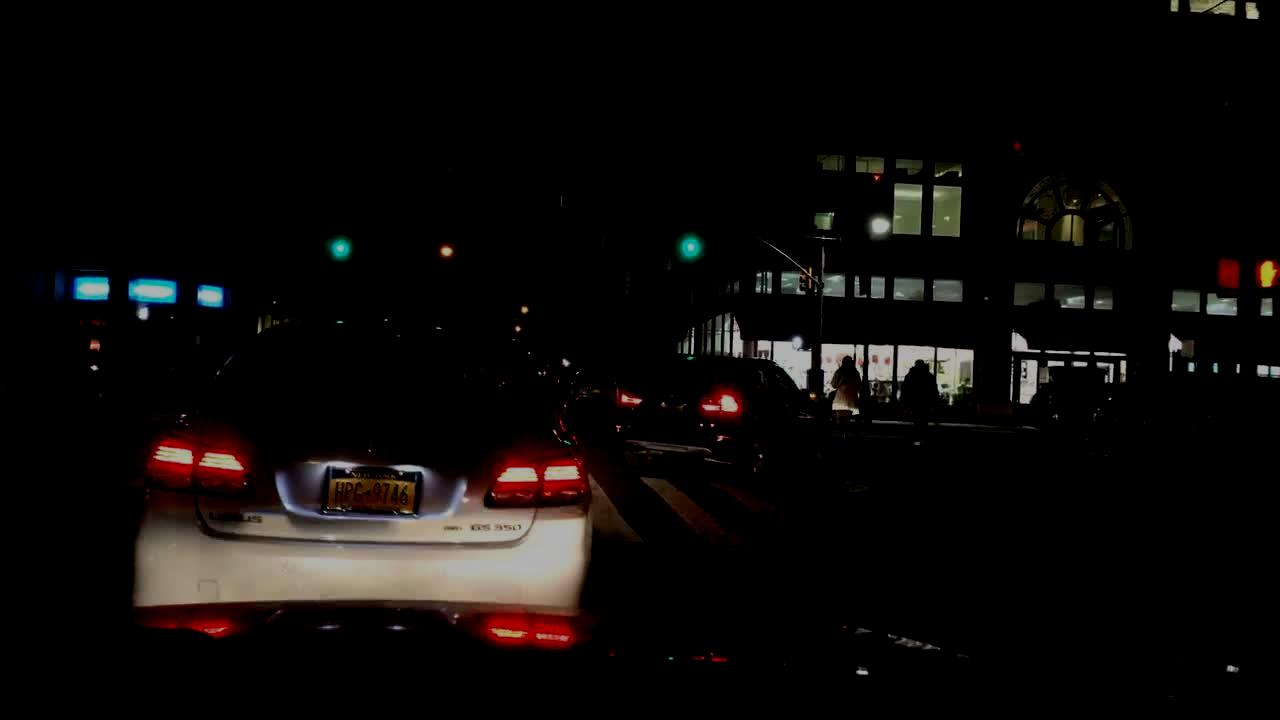lexus: (355, 422, 405, 459)
